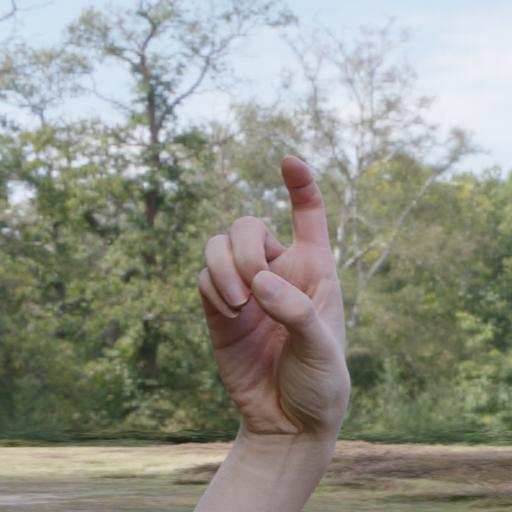X: (126, 142, 388, 488)
